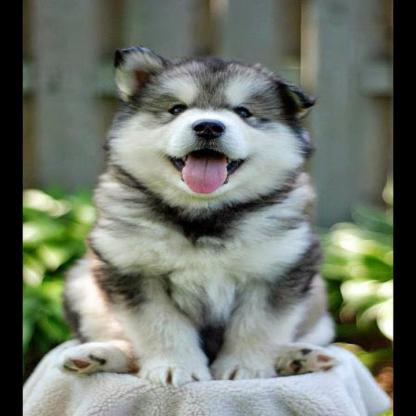dog: (55, 44, 334, 383)
